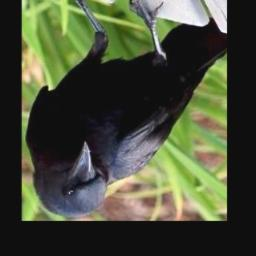Crow: (26, 0, 226, 217)
